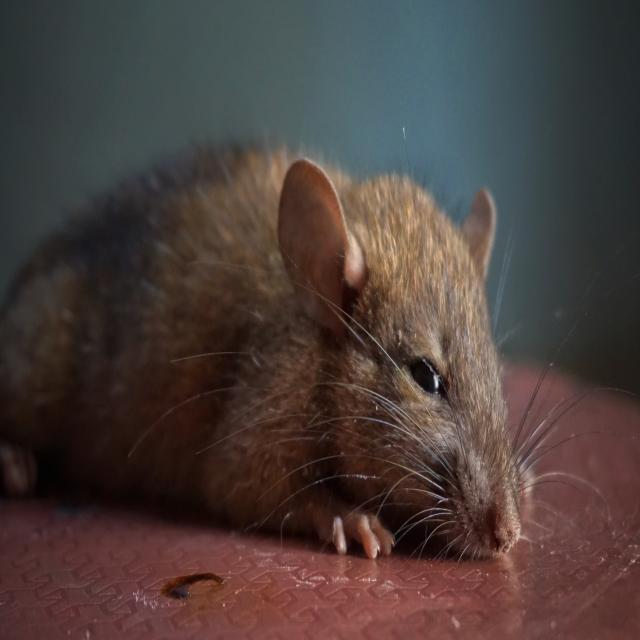rat: (15, 130, 550, 580)
